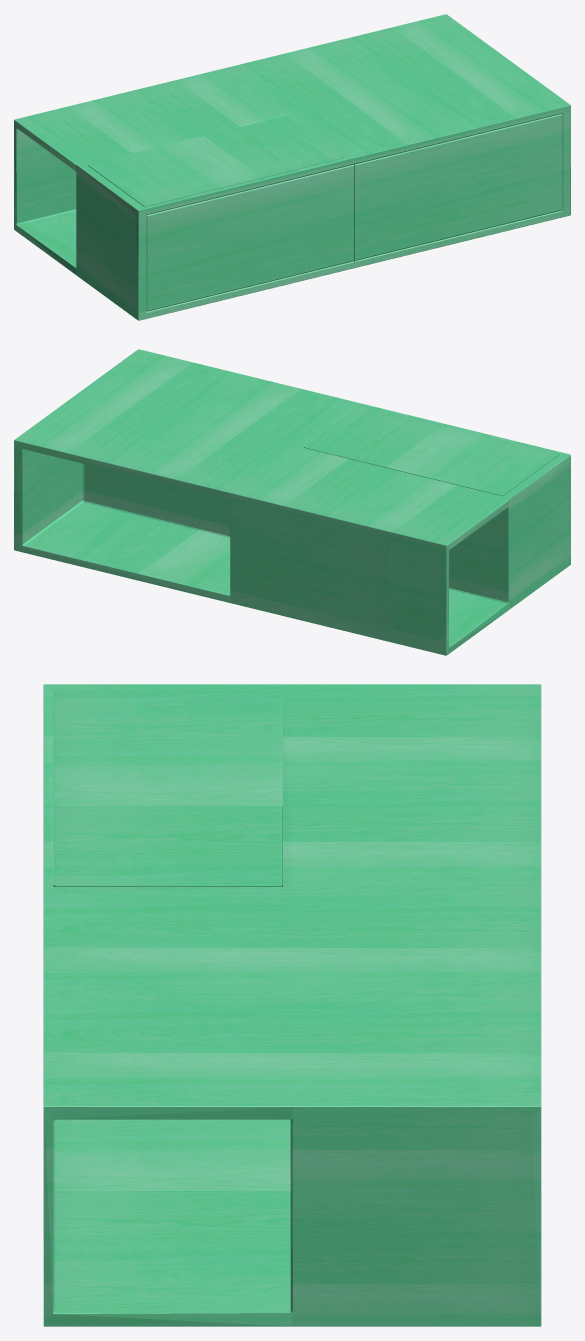
File: furniture_train_wood_brick_c1.dae
The picture shows the model from 3 angles, top to bottom: view 1: azimuth 30°, elevation 25°; view 2: azimuth 150°, elevation 25°; view 3: azimuth 270°, elevation 25°; orthographic projection. The views are drawn at different scales.
Parts seen in each view (by area): view 1: aws_CoffeeTable_01_visual; view 2: aws_CoffeeTable_01_visual; view 3: aws_CoffeeTable_01_visual.
Boxes of the visible parts, box(x1,y1,x2,y2) form: aws_CoffeeTable_01_visual: box(14, 14, 570, 320); aws_CoffeeTable_01_visual: box(14, 349, 570, 655); aws_CoffeeTable_01_visual: box(43, 684, 541, 1326).
Bounding box in the file's own units: 131 × 65.48 × 32.17.
1 material, 1 textured.
